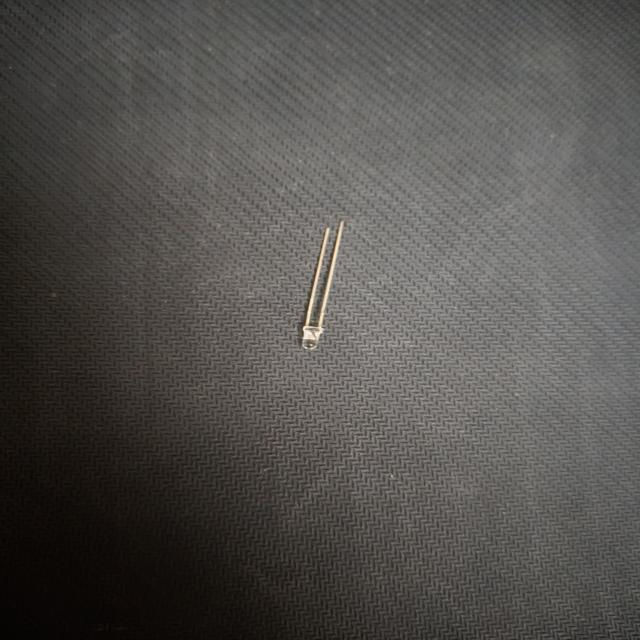led: (286, 212, 354, 354)
